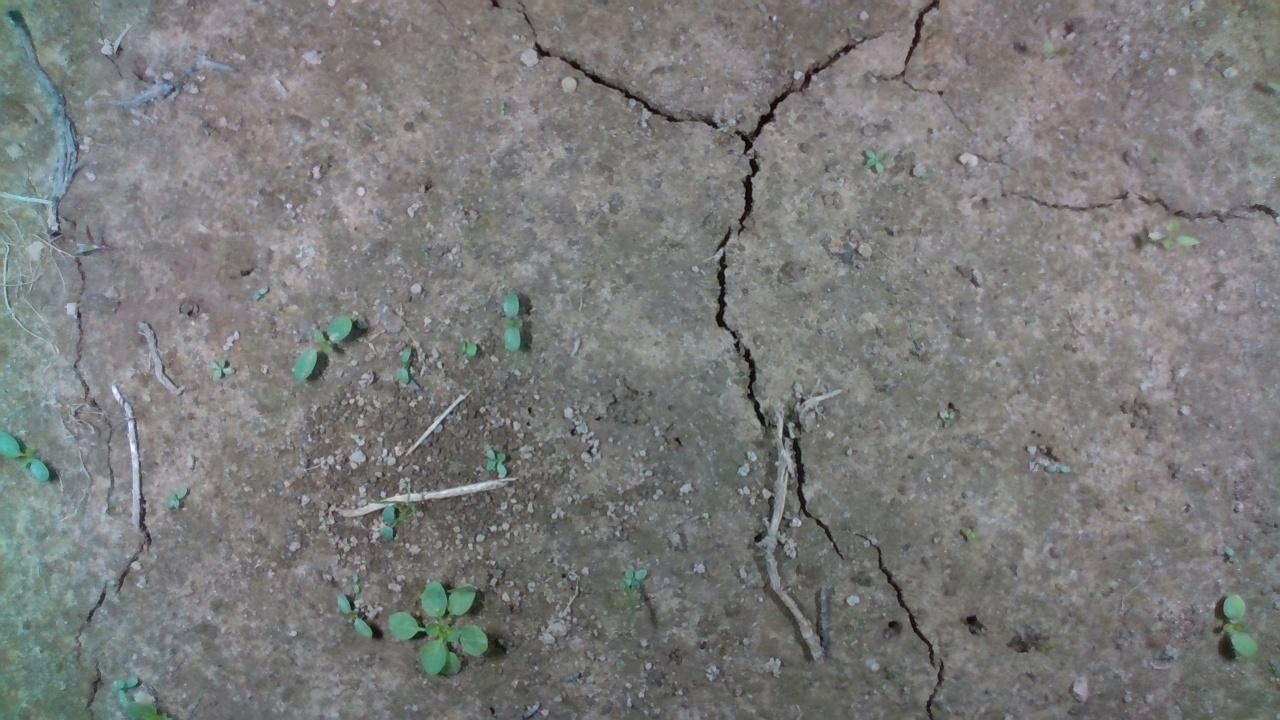weed: (289, 312, 353, 380), (1217, 590, 1260, 662), (1146, 213, 1196, 258), (332, 590, 375, 641), (492, 290, 524, 353), (204, 359, 238, 387), (860, 147, 890, 176), (394, 346, 412, 390), (484, 444, 504, 483), (244, 279, 275, 302), (622, 566, 648, 593), (450, 337, 478, 362), (161, 484, 189, 508)
